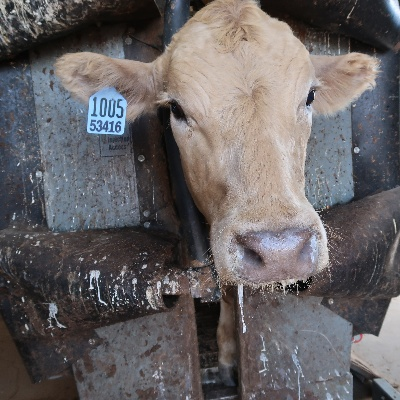fidget_spinner: (221, 221, 329, 296)
